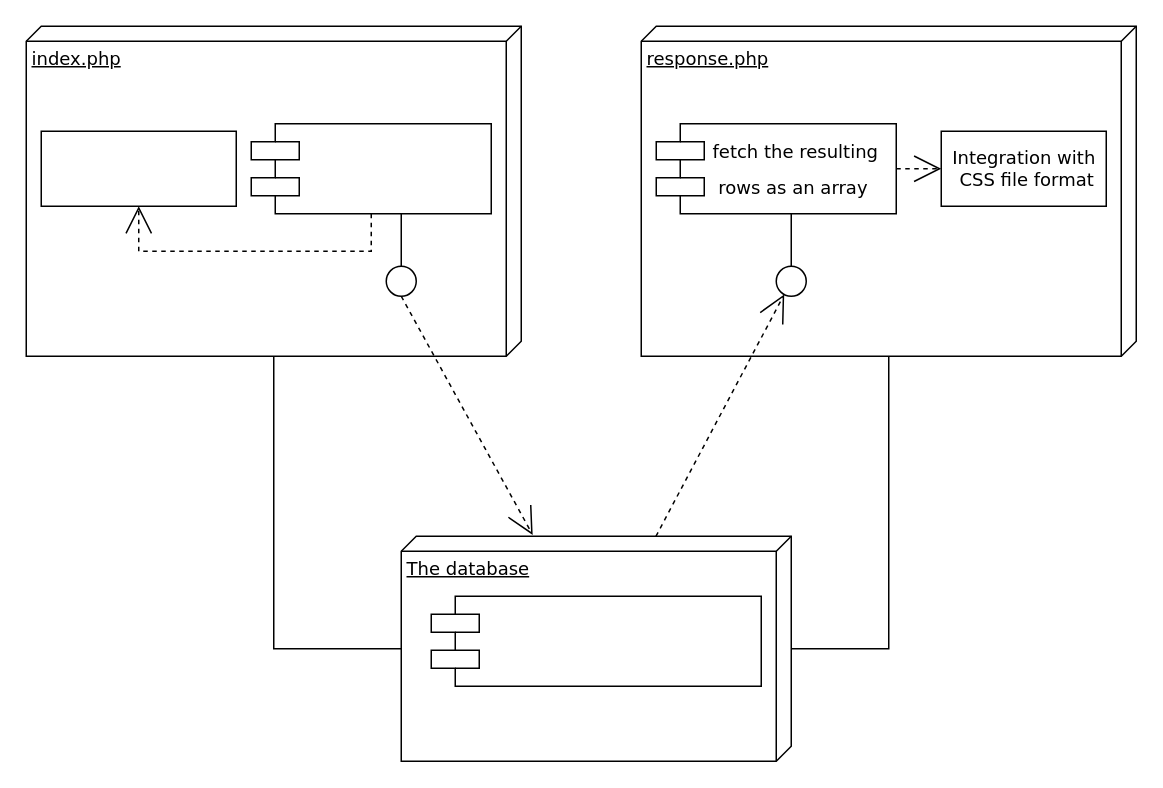
Some shapes in this 1163 by 788 pixel diagram are drawn without their labels. Each missing label, with the centre of its shape:
Integration with buttons and slider with CSS file format: the point at 138,168
Table Direction_and_motor_values: the point at 595,640
WritingToDatabase: the point at 370,168
